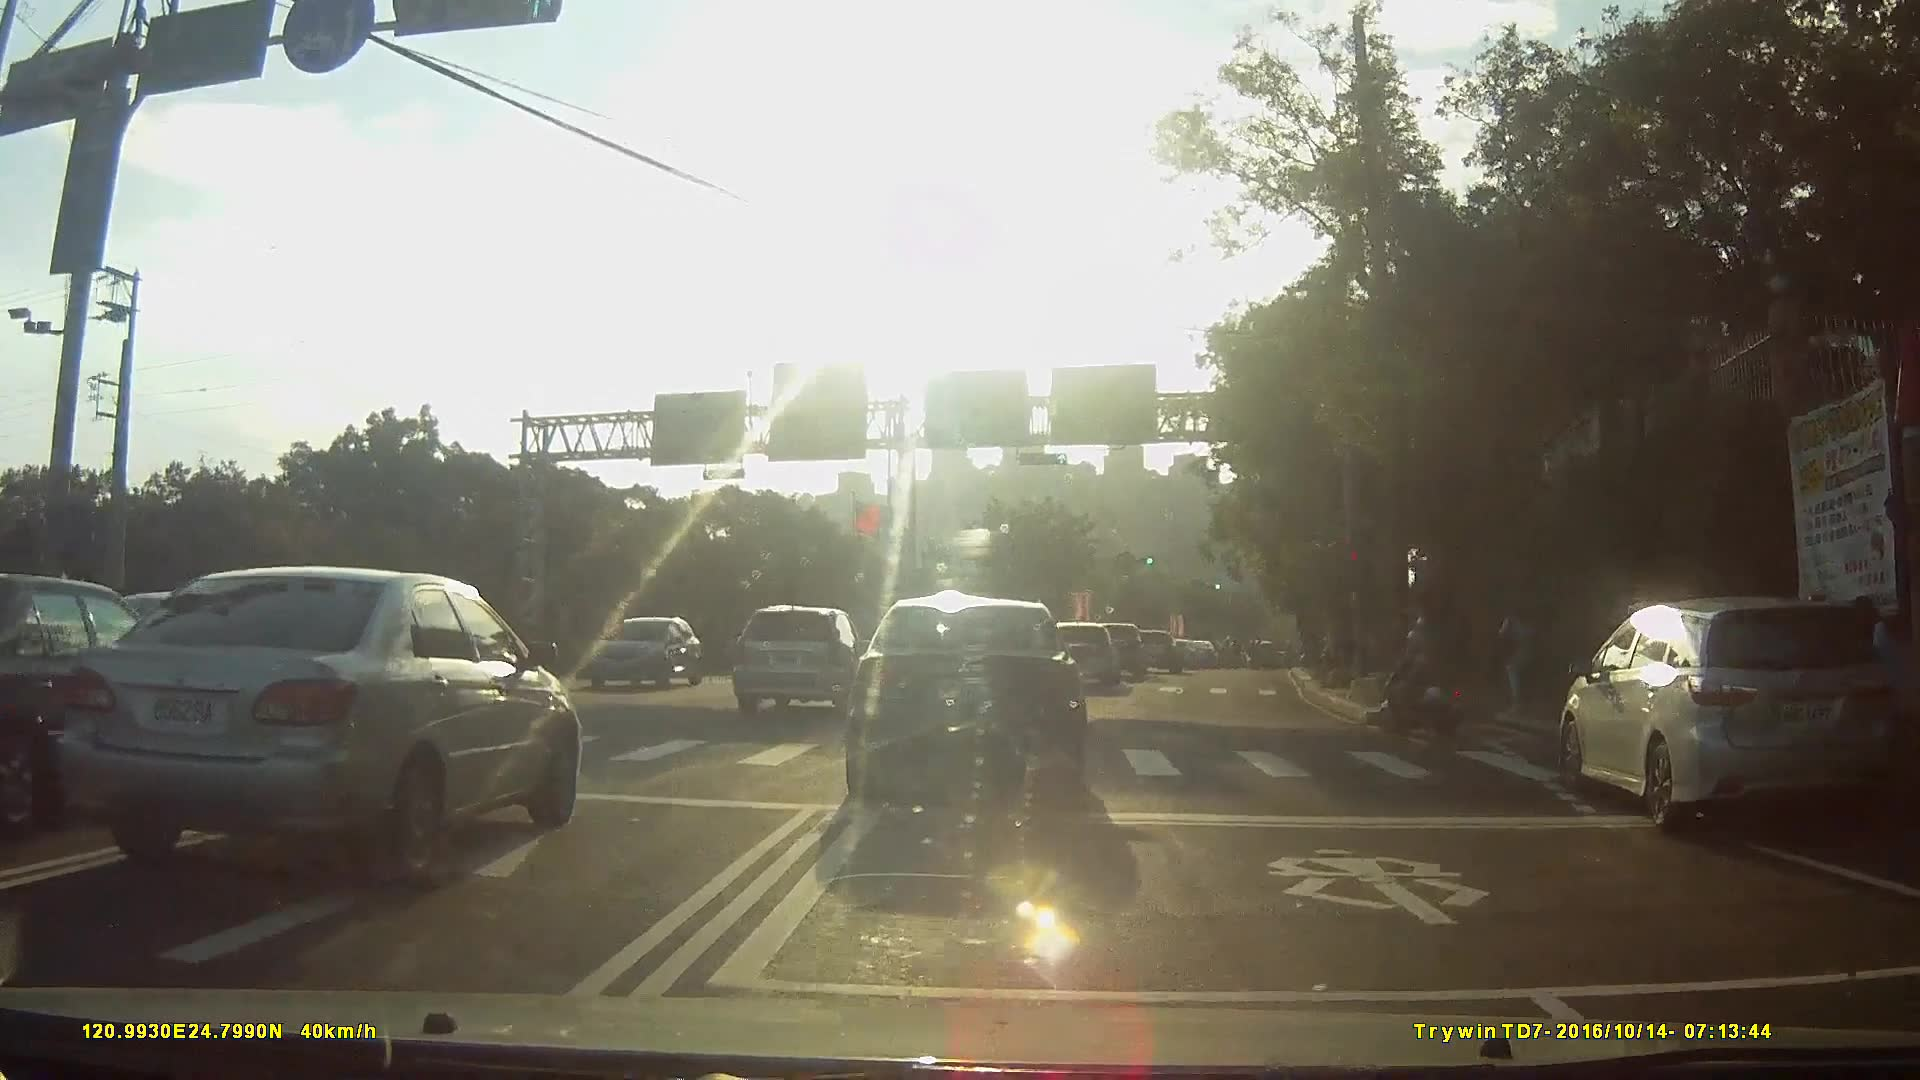pedestrian: (1850, 594, 1893, 740), (1496, 594, 1545, 719)
rider: (1381, 617, 1480, 746)
vehicle: (60, 567, 595, 882), (1547, 589, 1866, 854), (838, 598, 1106, 816), (1, 575, 193, 825), (741, 603, 885, 713), (587, 616, 724, 699), (1055, 623, 1129, 693), (1095, 619, 1157, 677), (1136, 627, 1193, 672), (1191, 638, 1227, 666)
